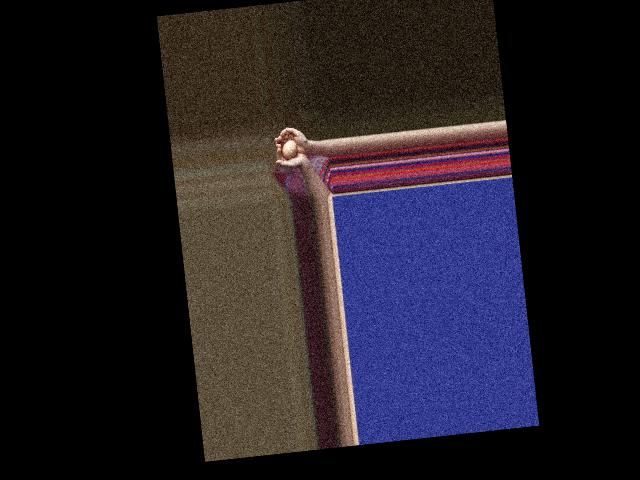egg: (280, 140, 298, 160)
